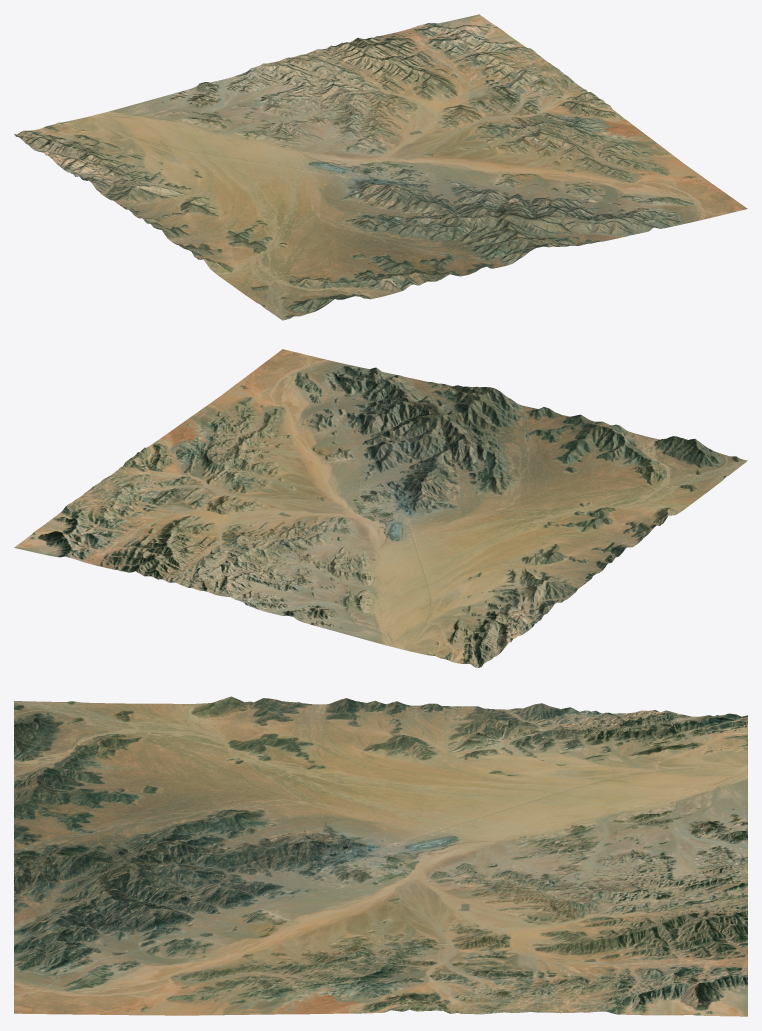
Rendered from TerrainData.fbx.
The picture shows the model from 3 angles, top to bottom: view 1: azimuth 30°, elevation 25°; view 2: azimuth 150°, elevation 25°; view 3: azimuth 270°, elevation 25°; orthographic projection. The views are drawn at different scales.
Visible parts, largest first — view 1: TerrainData; view 2: TerrainData; view 3: TerrainData.
Boxes of the visible parts, x1=… form: TerrainData: x1=14, y1=14, x2=747, y2=320; TerrainData: x1=14, y1=349, x2=747, y2=667; TerrainData: x1=14, y1=696, x2=747, y2=1016.
Size of the model in its own units: 6493 by 307 by 6493.
Materials: 1 (1 with a texture image).
